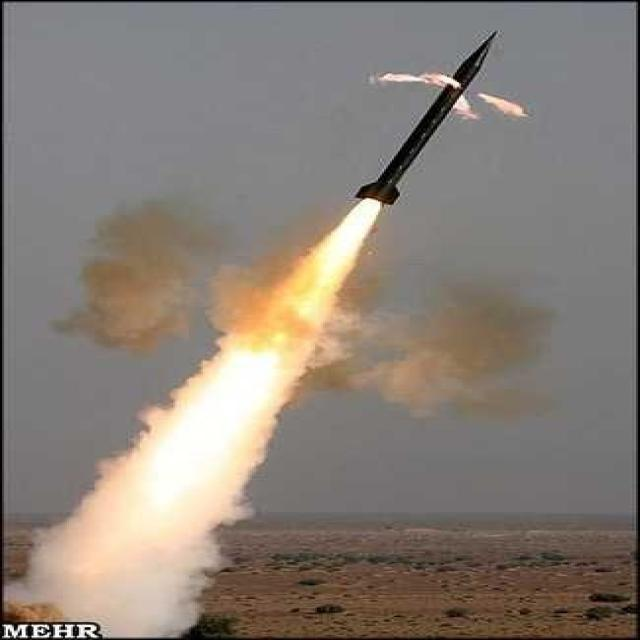missile: (357, 29, 502, 208)
